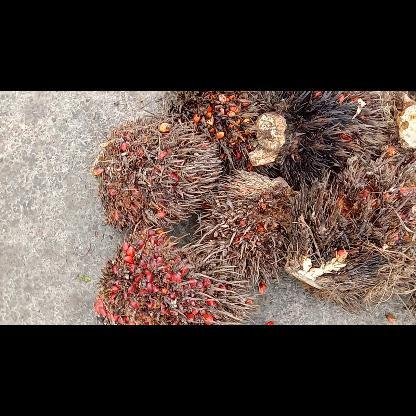Terlalu masak: (284, 153, 414, 311), (95, 226, 251, 324), (94, 114, 222, 228), (247, 90, 387, 184), (194, 170, 296, 284), (164, 91, 280, 175)
